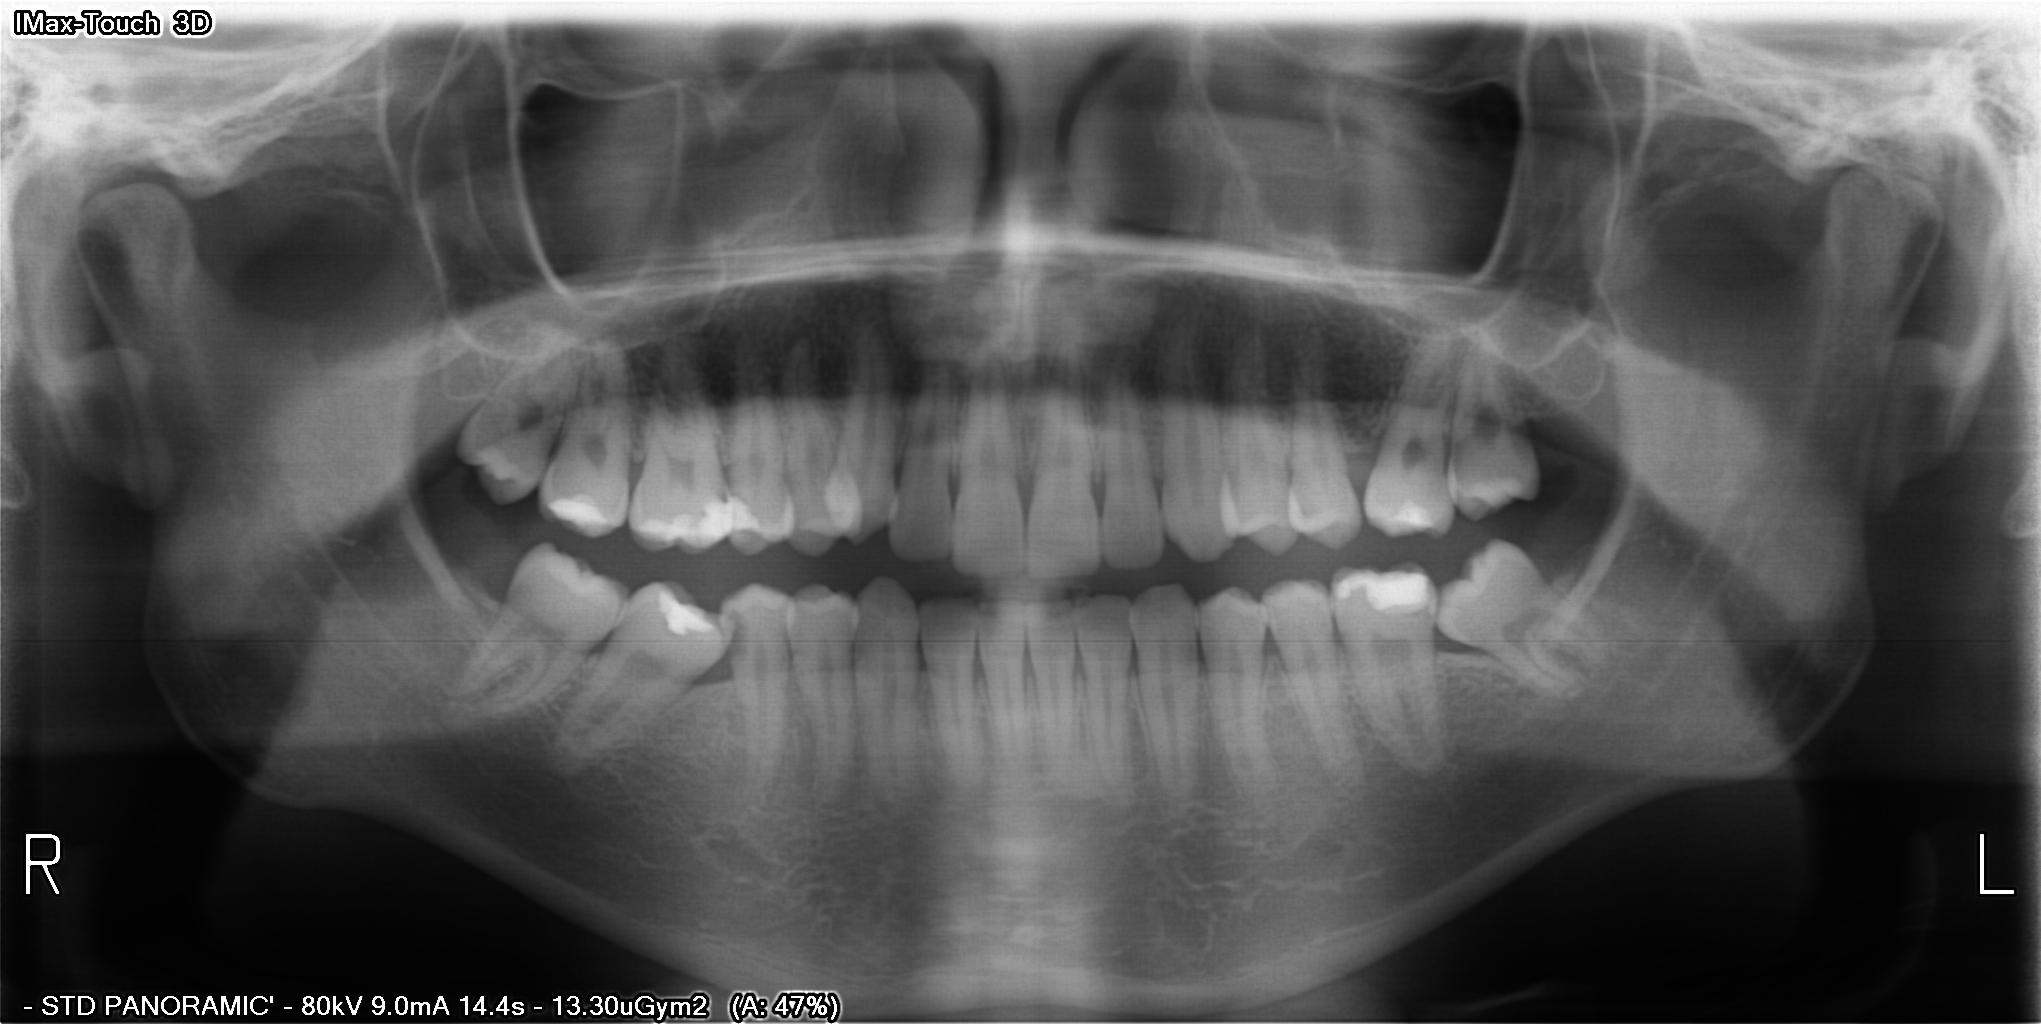Çürük: (1335, 567, 1436, 614), (534, 485, 611, 536), (648, 584, 720, 637), (688, 479, 733, 542), (722, 488, 760, 542)
Çürük Bölgesi: (722, 609, 751, 656)
